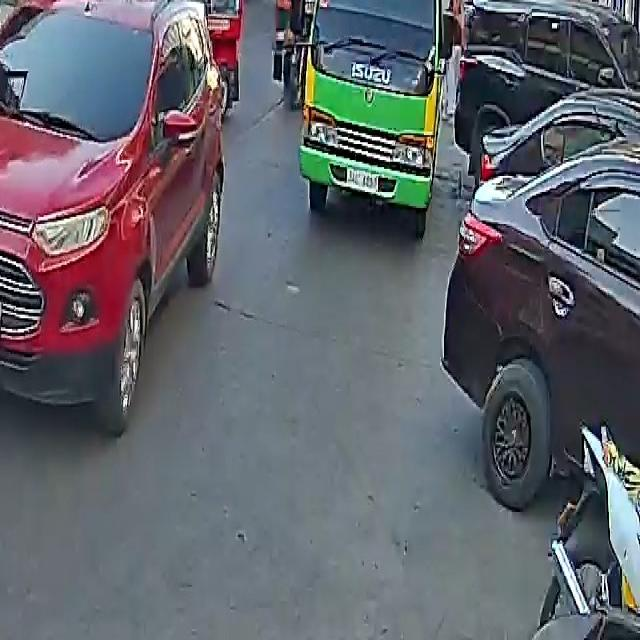car: (0, 0, 230, 421), (442, 80, 640, 519), (454, 0, 640, 172)
